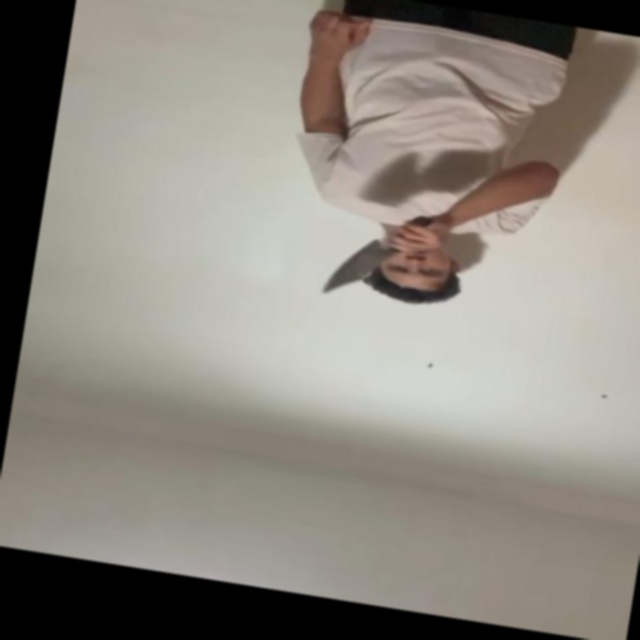Sharp-Object: (314, 237, 392, 306)
